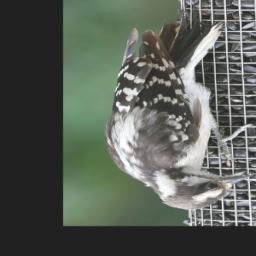Woodpecker: (105, 15, 255, 210)
